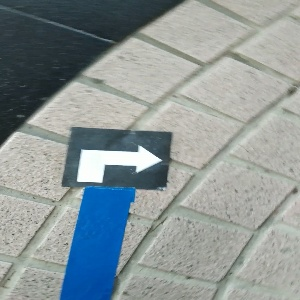right: (62, 125, 172, 190)
